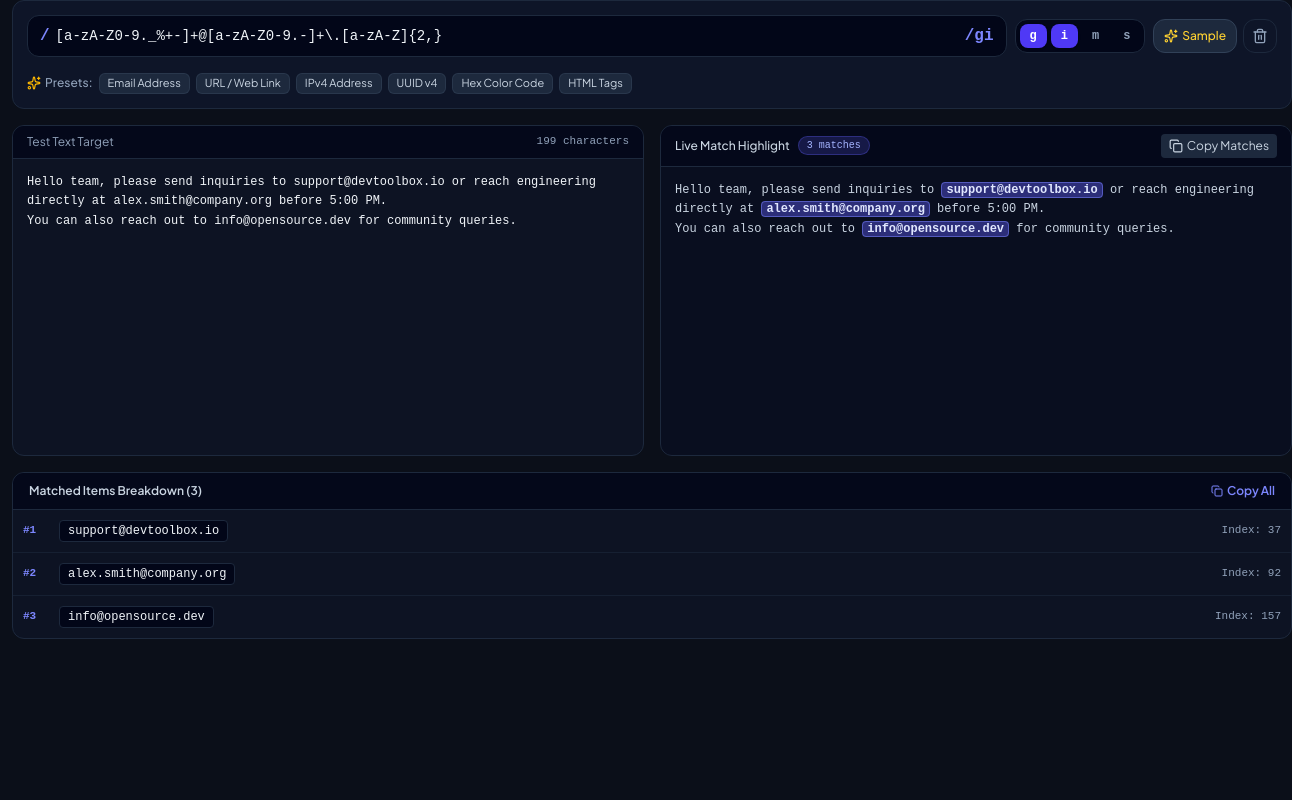
Test: RegexTester Tool › handles empty pattern gracefully without error
Clear the field named "regular expression pattern": {"x": 507, "y": 36} [56,26,959,46]
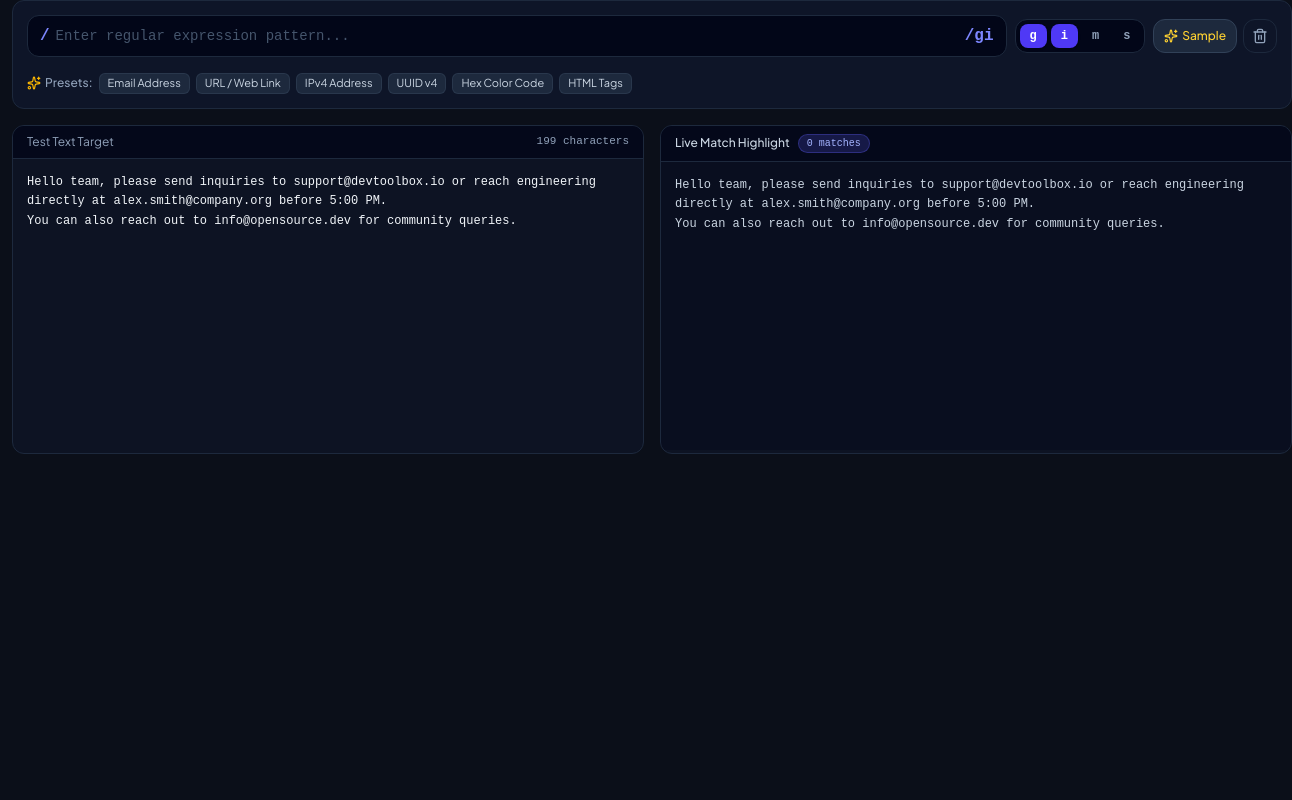
Expected: the text "0 matches" is shown, [798,134,870,153]
